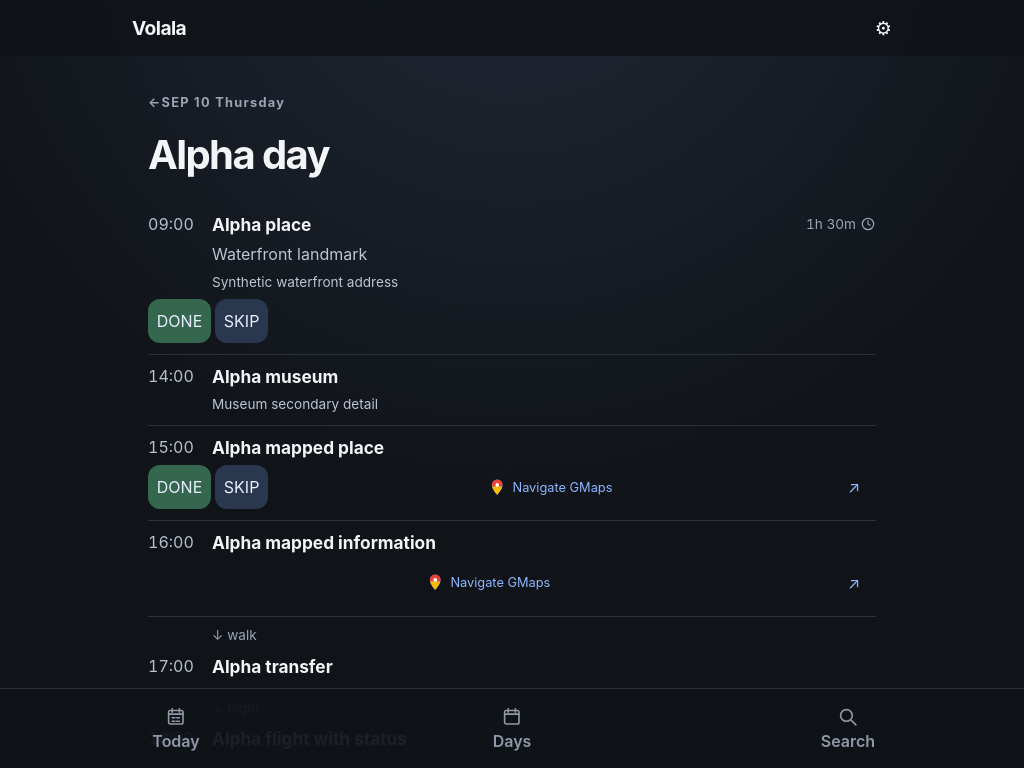
Test: Phase 3 itinerary selection › renders actions from item progress and Maps availability independently
The width and height of the screenshot is (1024, 768).
Check: the button "SKIP" below "Alpha mapped place" is shown, box 215,465 -> 268,509
Check: the link "Navigate GMaps" below "Alpha mapped place" is shown, box 488,478 -> 612,496
Click the button "DONE" below "Alpha mapped place": click(180, 487) 148,465 -> 211,509
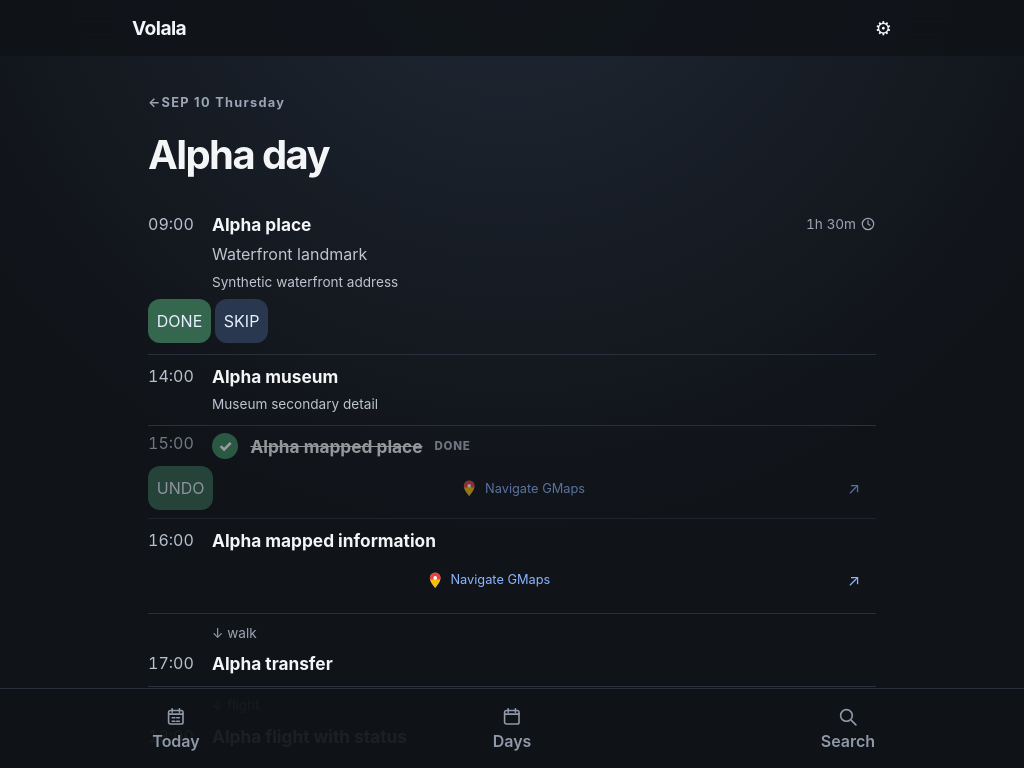
Check: the link "Navigate GMaps" below "Alpha mapped place" is shown, box 460,479 -> 585,498
Check: the button "UNDO" is shown
Click the button "UNDO": click(181, 488) 148,466 -> 213,510
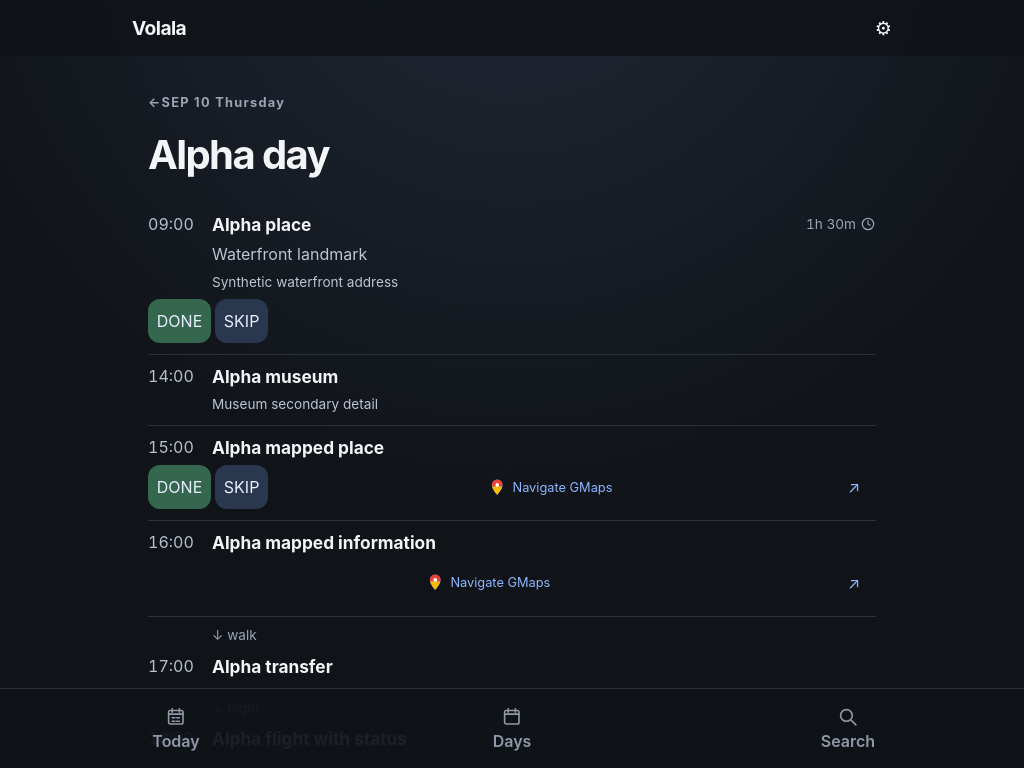
Click the button "SKIP" below "Alpha mapped place": click(242, 487) 215,465 -> 268,509
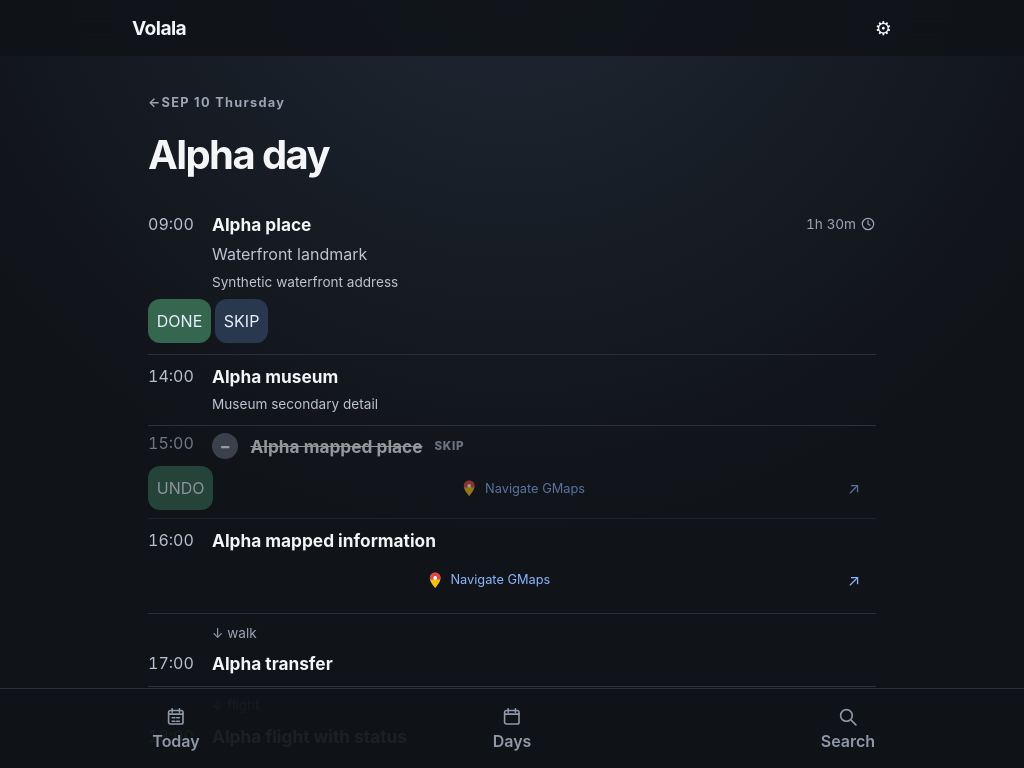
Check: the link "Navigate GMaps" below "Alpha mapped information" is shown, box 426,571 -> 550,589
Check: the button "UNDO" is shown, box 148,466 -> 213,510
